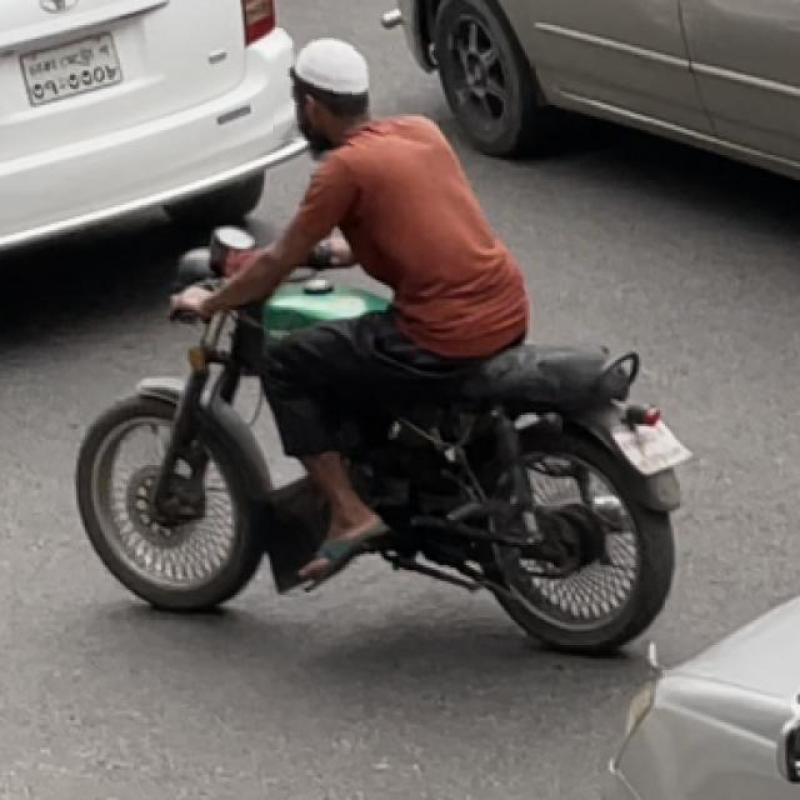nohelmet: (274, 30, 391, 144)
